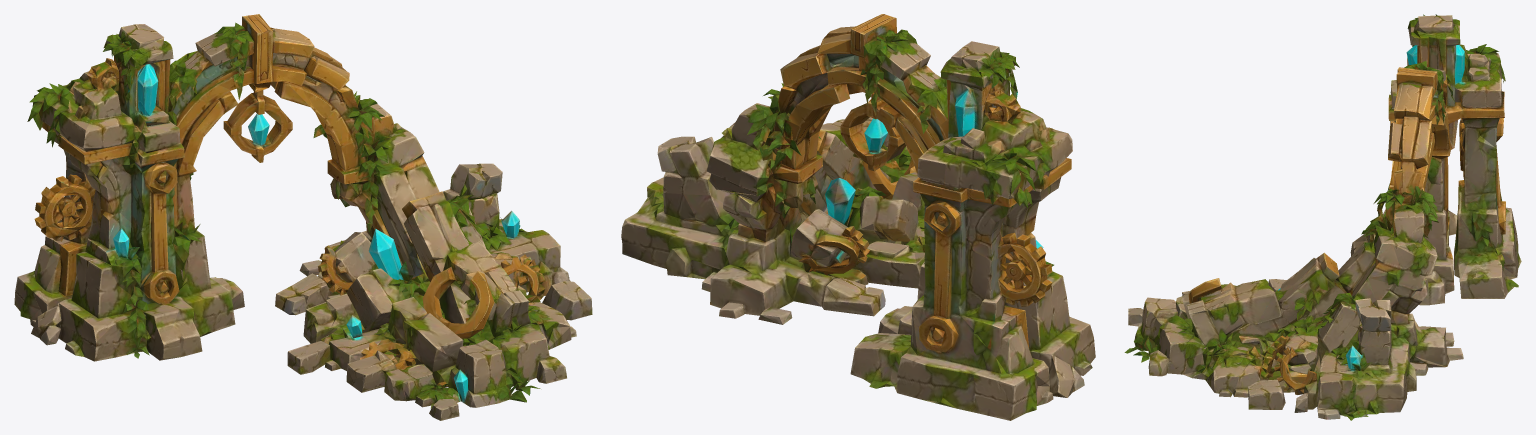
The model's file is landmark_timegate.glb.
3 renders of one model, left to right at view 1: azimuth 30°, elevation 25°; view 2: azimuth 150°, elevation 25°; view 3: azimuth 270°, elevation 25°, orthographic. The views are drawn at different scales.
Parts seen in each view (by area): view 1: output_unwrapped; view 2: output_unwrapped; view 3: output_unwrapped.
Part boxes in pixels (x1,y1,x2,y2): output_unwrapped: [14, 14, 592, 420]; output_unwrapped: [621, 14, 1095, 420]; output_unwrapped: [1124, 14, 1521, 420].
Bounding box in the file's own units: 1.88 × 1.11 × 1.62.
Materials: 1 (1 with a texture image).
